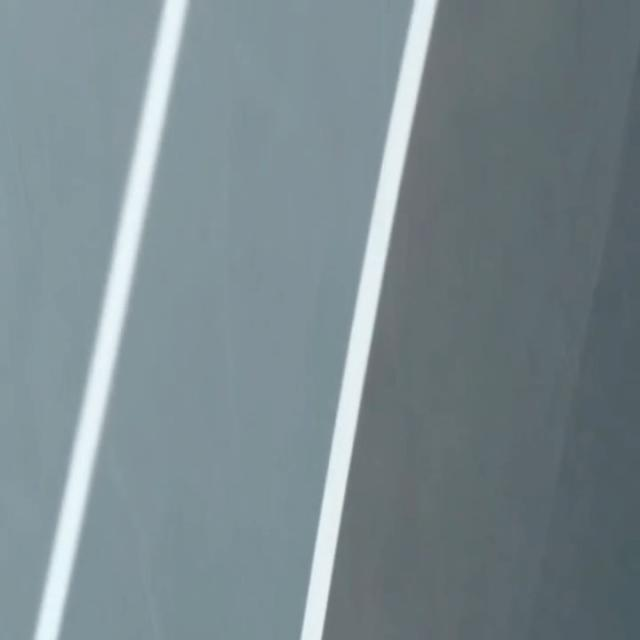left: (300, 0, 437, 639)
